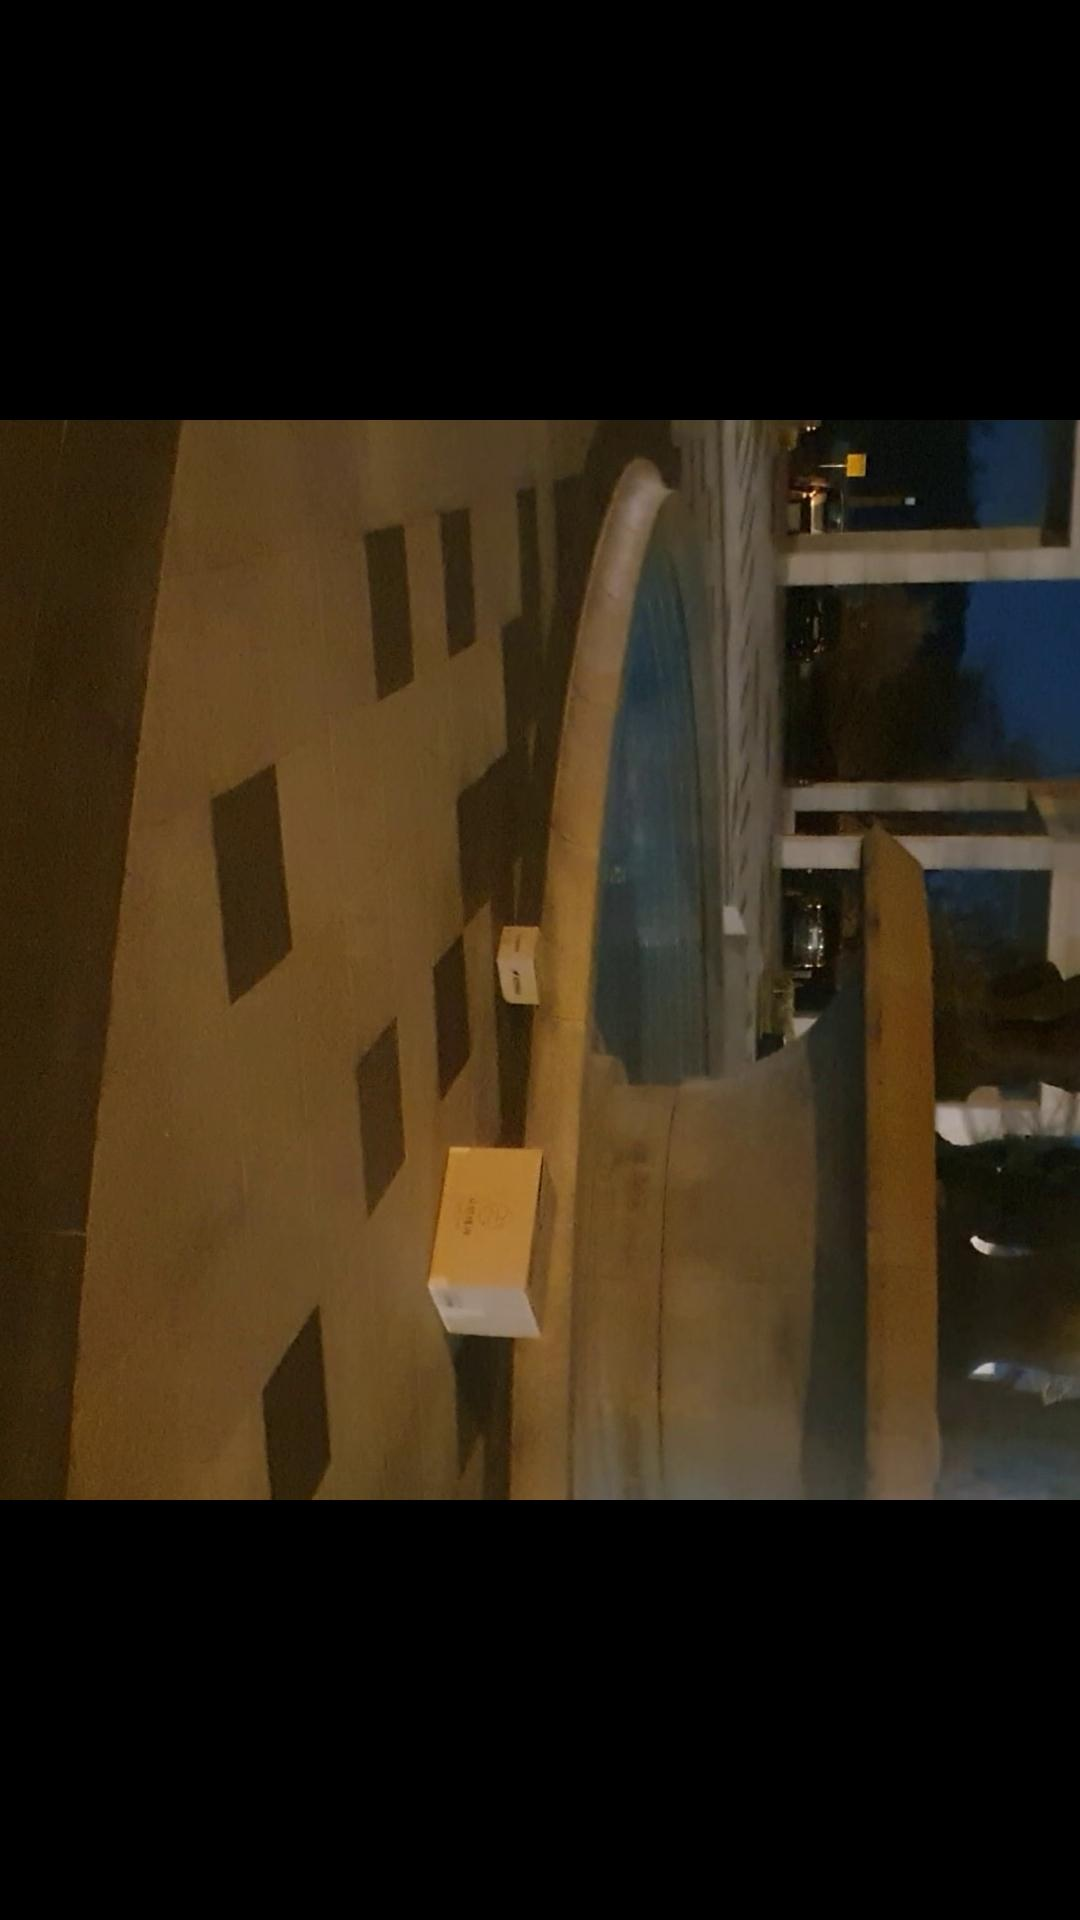Box: (423, 1146, 570, 1350), (498, 923, 550, 1022)
